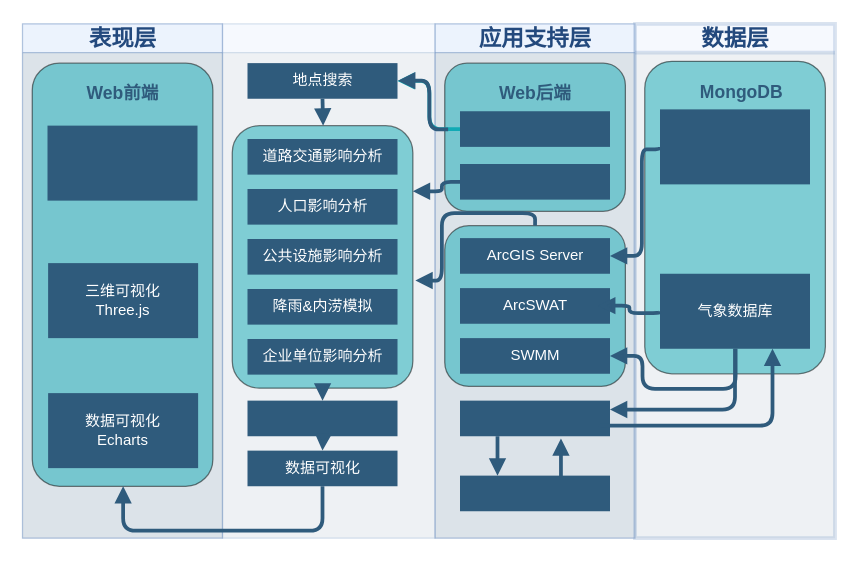
Image size: 858x564. Some labels were removed from this diagram. The shapes that lost their labels are listed below. From the top down, each one's box as (x1, y1, x2, y2) in pixels, then its label:
(459, 111, 609, 146): Flask框架
(659, 109, 809, 184): 地面模型数据库
(47, 125, 197, 200): 可视化框架 ArcGIS API For JS
(459, 163, 609, 199): ArcPy模块
(221, 22, 435, 538): 业务逻辑层
(247, 400, 397, 436): 应急救援建议和规划
(459, 400, 609, 436): 网络爬虫
(459, 475, 609, 511): 中国气象网
